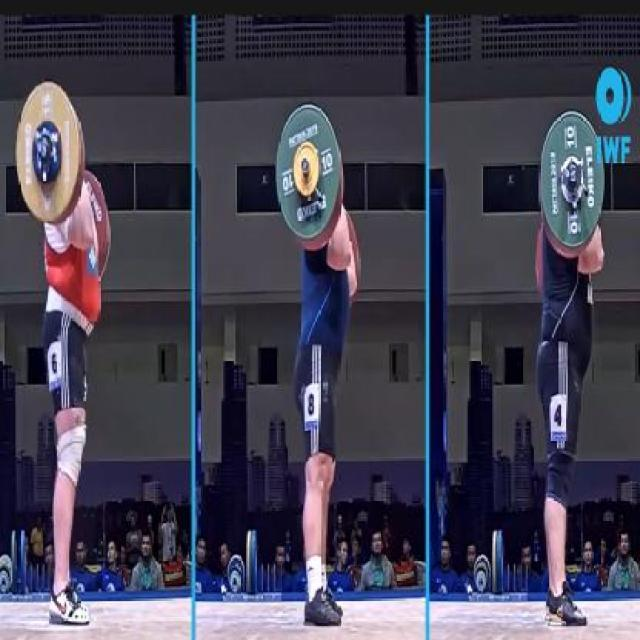Barbell: (30, 120, 66, 188), (289, 136, 322, 207), (557, 148, 586, 209)
